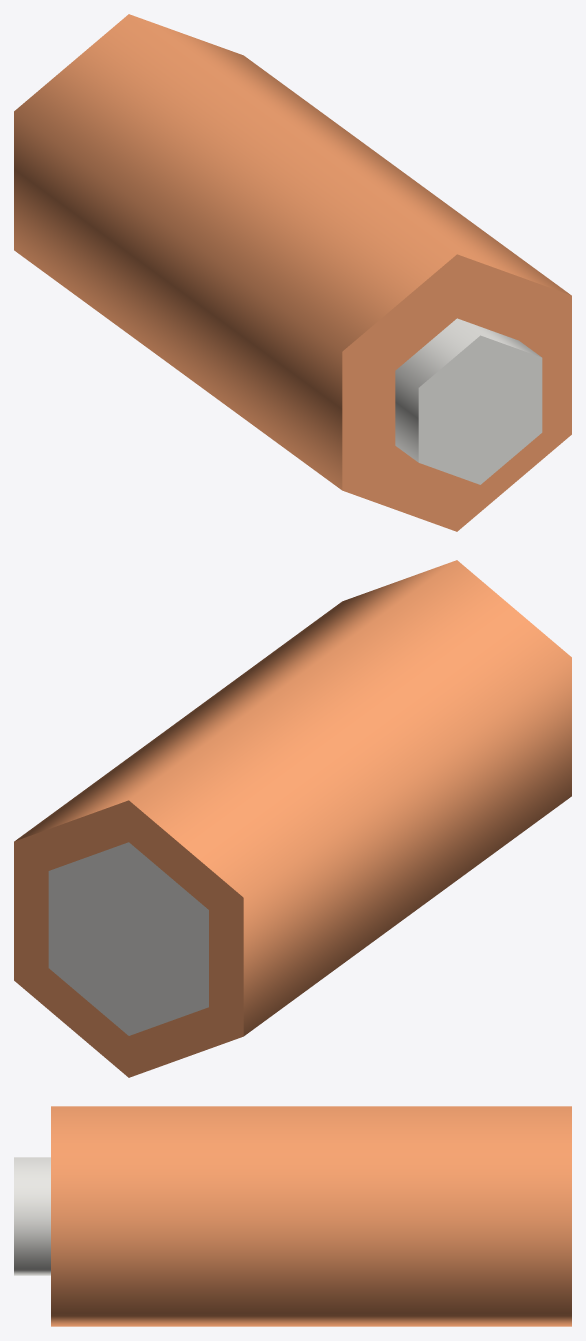
The model's file is battery.fbx.
The picture shows the model from 3 angles, top to bottom: view 1: azimuth 30°, elevation 25°; view 2: azimuth 150°, elevation 25°; view 3: azimuth 270°, elevation 25°; orthographic projection. The views are drawn at different scales.
Visible parts, largest first — view 1: Battery; view 2: Battery; view 3: Battery.
Part boxes in pixels (left/top/right/bottom): Battery: left=14, top=14, right=571, bottom=531; Battery: left=14, top=560, right=571, bottom=1077; Battery: left=14, top=1106, right=571, bottom=1326.
Bounding box in the file's own units: 10.28 × 3.88 × 4.48.
